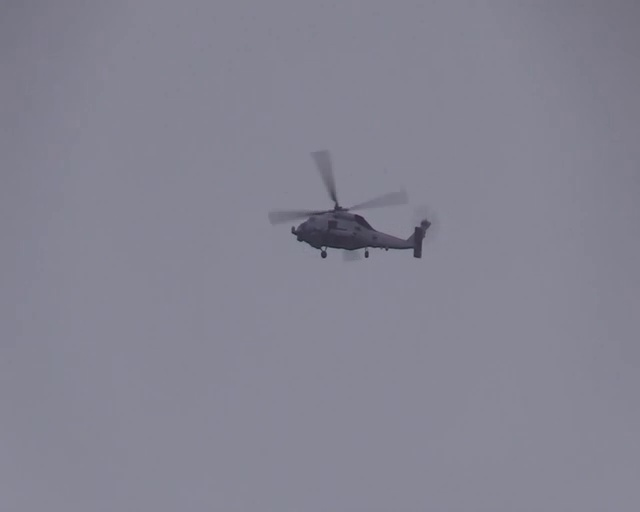HELICOPTER: (269, 149, 431, 261)
